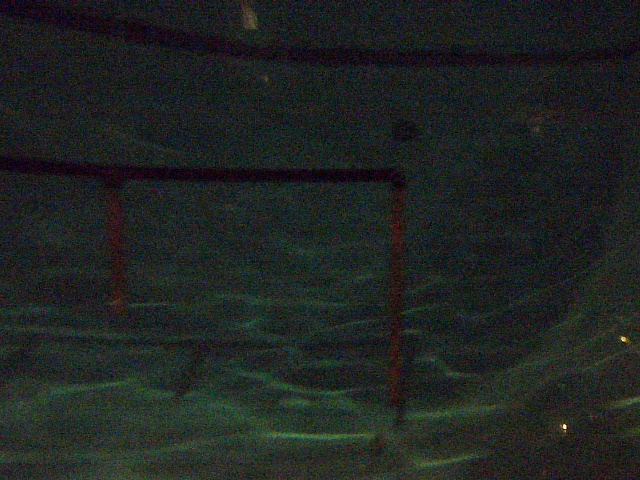Gate: (387, 183, 412, 417), (103, 178, 131, 301)
